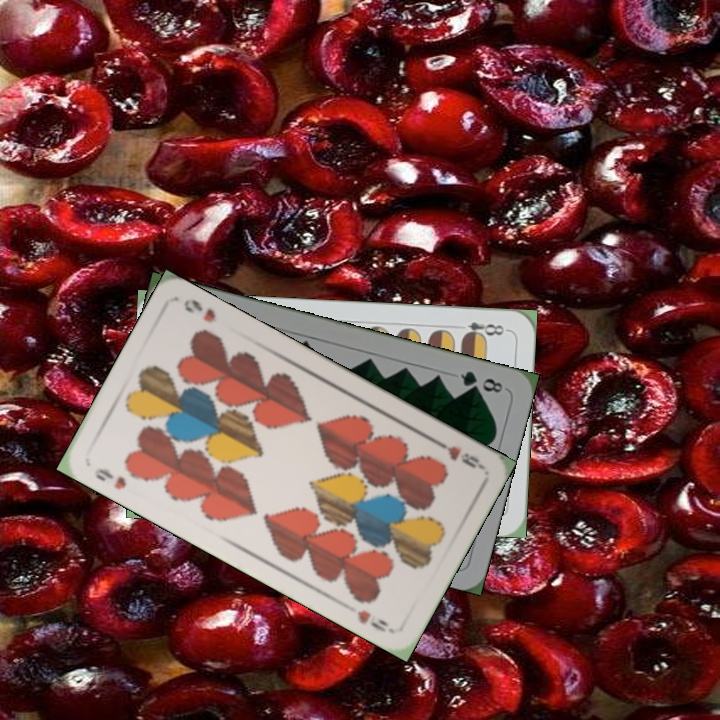E8: (459, 318, 510, 341)
G8: (456, 366, 506, 396)
H9: (430, 435, 485, 471), (90, 464, 129, 493)
